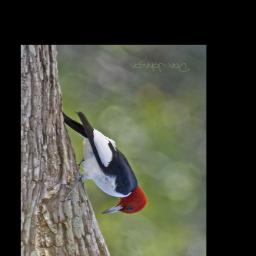Woodpecker: (57, 109, 150, 218)
